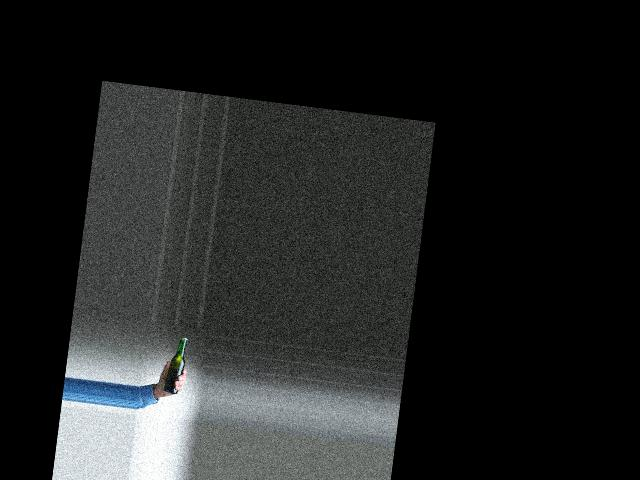beer: (162, 335, 187, 394)
